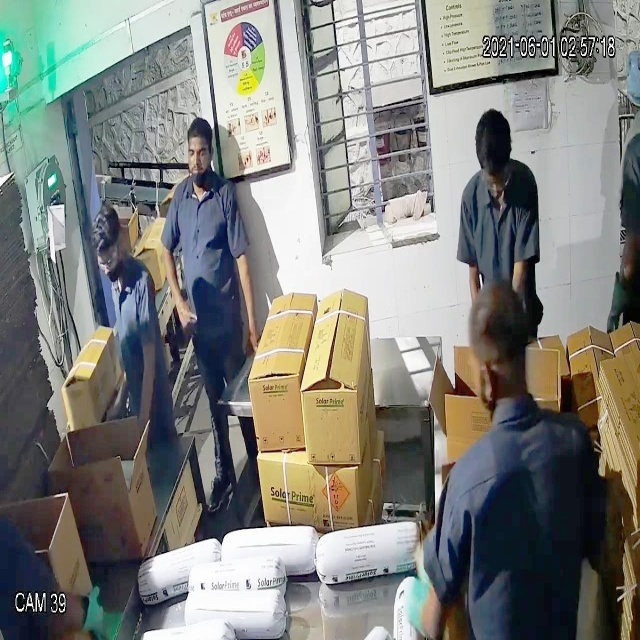Gafas: (95, 238, 124, 275)
